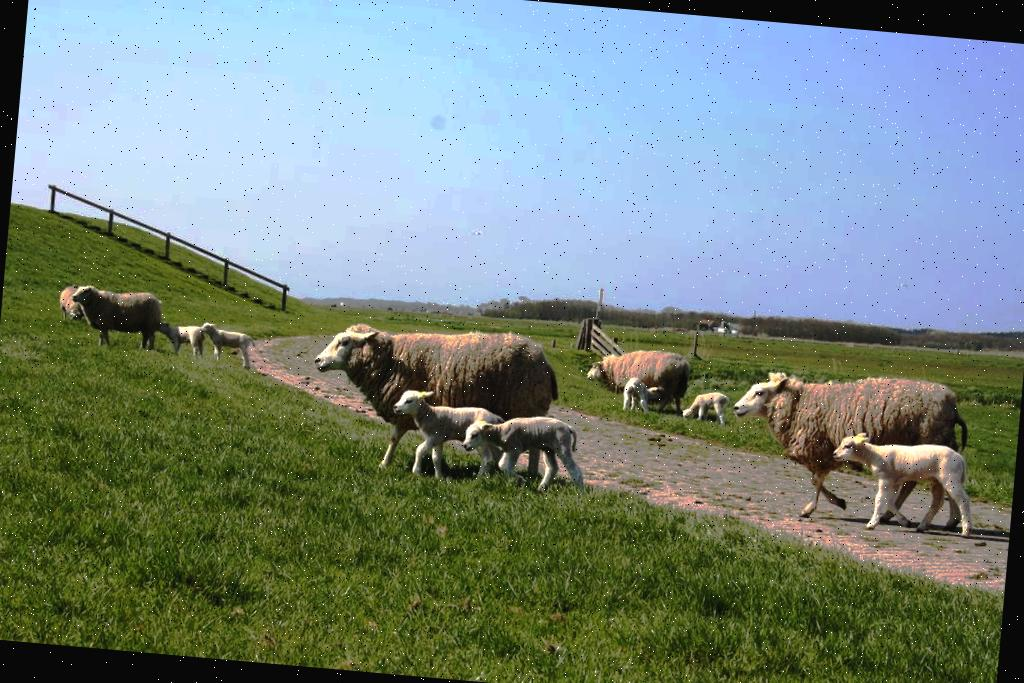Sheep: (728, 364, 981, 538), (302, 316, 562, 482), (824, 429, 975, 541), (386, 388, 502, 484), (455, 408, 593, 487), (582, 342, 688, 409), (66, 280, 161, 350), (193, 320, 255, 368), (155, 321, 209, 356), (682, 390, 728, 423), (54, 282, 84, 324), (618, 374, 650, 410)
